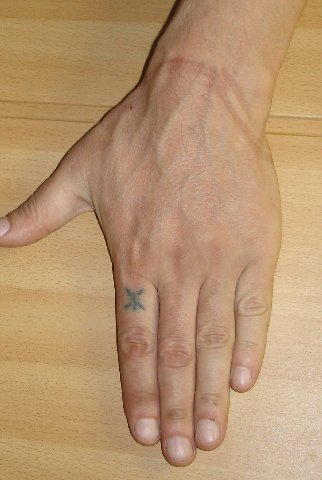tatu9_krest: (127, 292, 139, 312)
